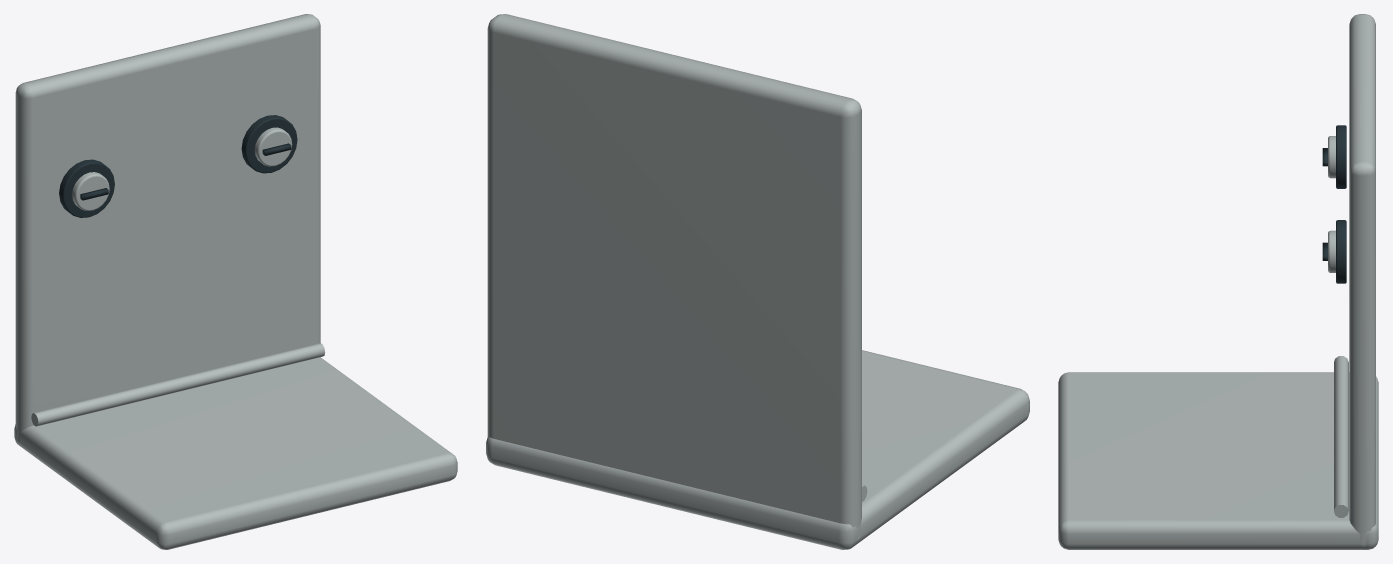
The model's file is SafetyBracket.fbx.
3 views of the same model, side by side, from view 1: azimuth 30°, elevation 25°; view 2: azimuth 150°, elevation 25°; view 3: azimuth 270°, elevation 25° (orthographic). The views are drawn at different scales.
Visible parts, largest first — view 1: Surface_KKTC_Metal, Surface_KKTC_Rubber; view 2: Surface_KKTC_Metal; view 3: Surface_KKTC_Metal, Surface_KKTC_Rubber.
Boxes of the visible parts, x1,y1,x2,y2 form: Surface_KKTC_Metal: [14, 14, 457, 549]; Surface_KKTC_Rubber: [59, 115, 297, 217]; Surface_KKTC_Metal: [486, 14, 1029, 549]; Surface_KKTC_Metal: [1058, 14, 1378, 549]; Surface_KKTC_Rubber: [1322, 125, 1346, 283].
Size of the model in its own units: 6.9 by 8 by 6.
